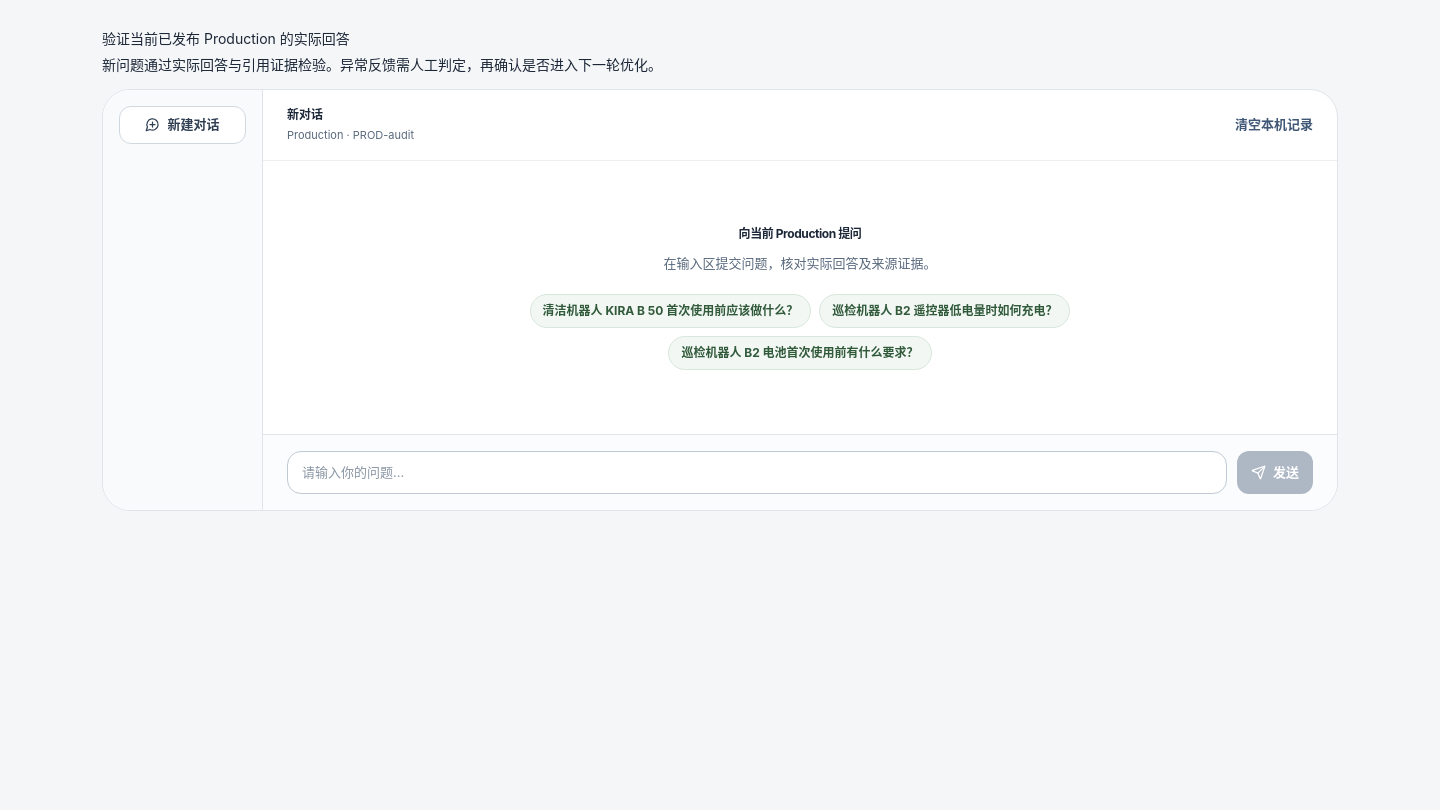
Test: keeps answer telemetry and source IDs out of the chat until its audit Drawer opens
The width and height of the screenshot is (1440, 810).
Click the button "清洁机器人 KIRA B 50 首次使用前应该做什么？". click: (670,311)
box: [530,294,811,328]
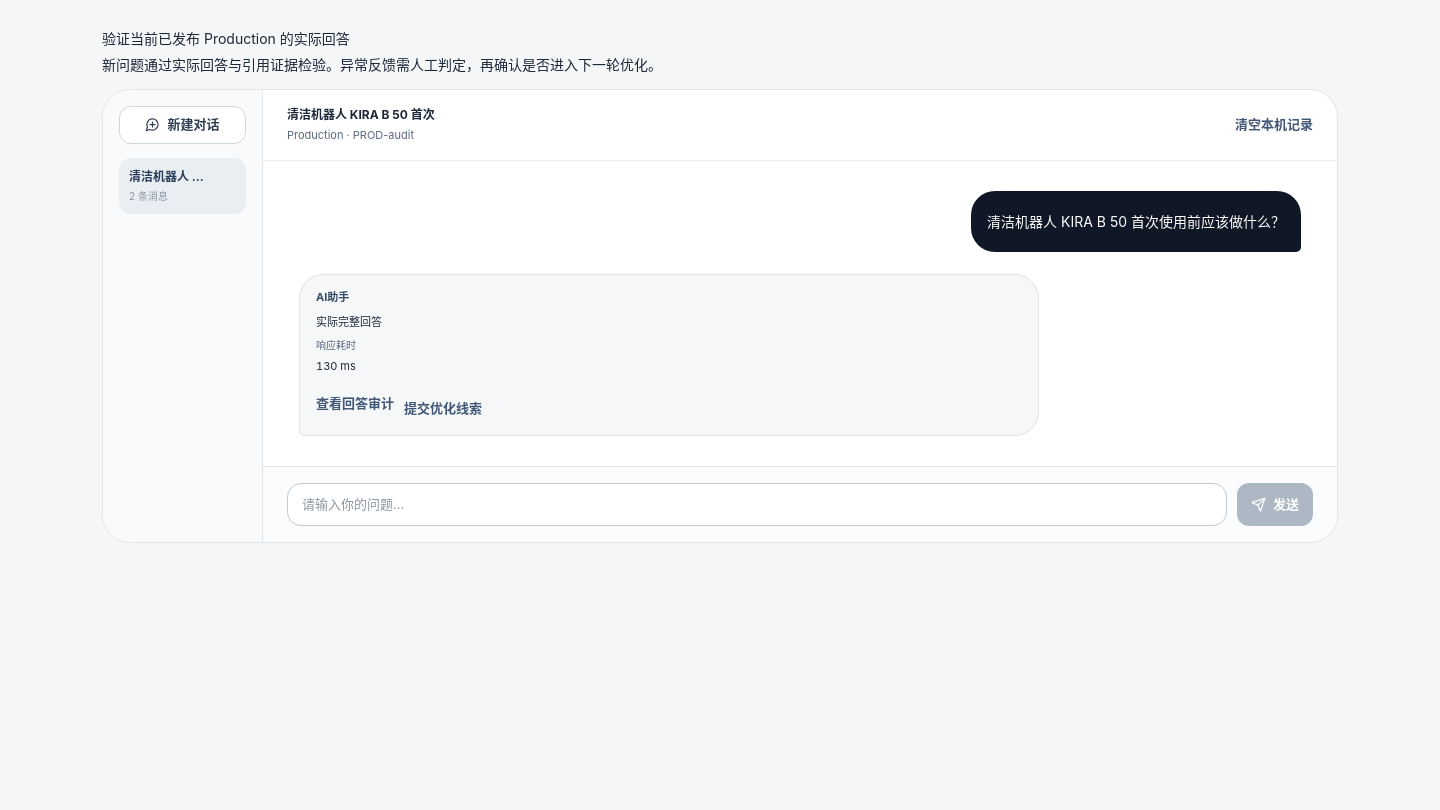
expect the element with class "message-list" does not show "internal-model": met
expect the element with class "message-list" shows "实际完整回答": met, box [316,315,382,329]
expect the element with class "message-list" shows "130 ms": met, box [316,360,356,374]
Click the button "查看回答审计". click: (355,404)
box: [316,391,394,417]
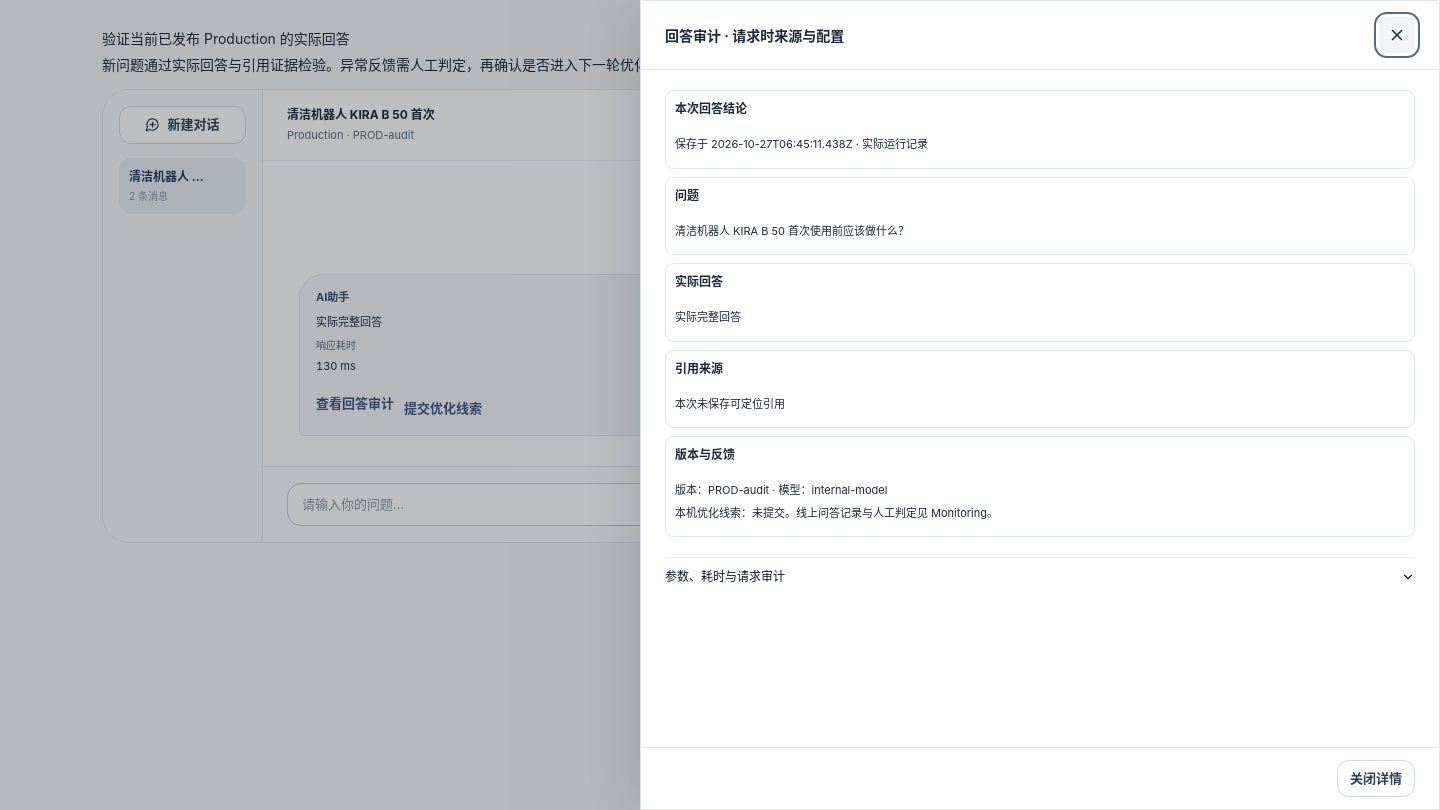
expect the dialog with class "drawer" shows "internal-model": met, box [812,483,887,497]
